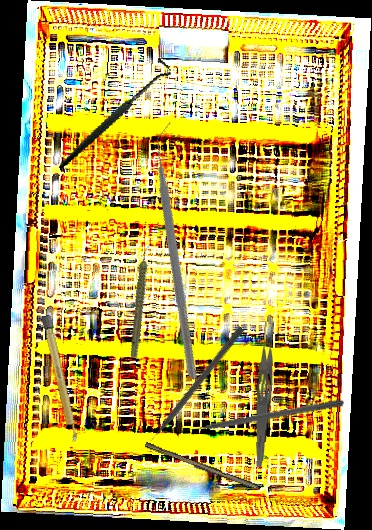Chopper: (56, 121, 307, 381)
Dressing Forceps: (253, 320, 277, 468)
Handpiece: (107, 244, 176, 359)
Hook Surgical: (38, 55, 188, 171)
Pusher: (141, 324, 245, 451), (175, 397, 345, 436)
Scalpel Handle: (143, 441, 259, 492), (40, 314, 80, 444)
